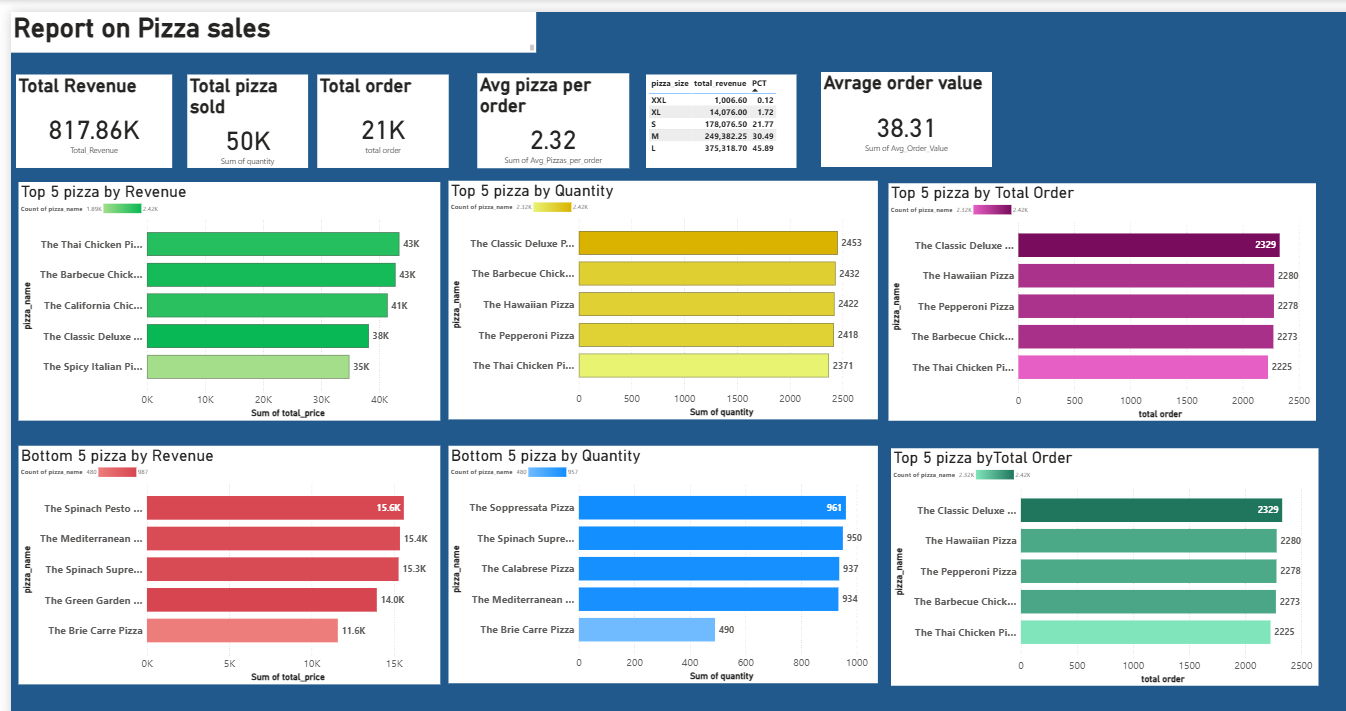

What the dashboard file says about the page in this screenshot:
{"tool":"powerbi","page":{"name":"Page 1","canvas":[3000,1500],"ordinal":0},"visuals":[{"type":"card","title":"Total Revenue","fields":{"Values":["Sum(Pizza Sales.total_price)"]},"box":[11.4,131.4,328.6,197.1],"z":0},{"type":"card","title":"Total  pizza  sold","fields":{"Values":["Sum(Pizza Sales.quantity)"]},"box":[371.4,131.4,254.3,197.1],"z":1000},{"type":"card","title":"Total order","fields":{"Values":["Pizza Sales.total order"]},"box":[645.7,131.4,277.1,197.1],"z":2000},{"type":"card","title":"Avg pizza per order","fields":{"Values":["Sum(avg pizza per order.Avg_Pizzas_per_order)"]},"box":[982.9,128.6,320,200],"z":3000},{"type":"tableEx","fields":{"Values":["pizza size total revenue pct.pizza_size","pizza size total revenue pct.total_revenue","pizza size total revenue pct.PCT"]},"box":[1337.1,131.4,317.1,197.1],"z":4000},{"type":"clusteredBarChart","title":"Bottom 5 pizza by Revenue","fields":{"Category":["Pizza Sales.pizza_name"],"Y":["Sum(Pizza Sales.total_price)"]},"box":[16,914,888,502],"z":5000},{"type":"clusteredBarChart","title":"Top  5 pizza by Revenue","fields":{"Category":["Pizza Sales.pizza_name"],"Y":["Sum(Pizza Sales.total_price)"]},"box":[16,358,888,502],"z":6000},{"type":"clusteredBarChart","title":"Top  5 pizza by Quantity","fields":{"Category":["Pizza Sales.pizza_name"],"Y":["Sum(Pizza Sales.quantity)"]},"box":[922,356,904,502],"z":7000},{"type":"clusteredBarChart","title":"Bottom 5 pizza by Quantity","fields":{"Category":["Pizza Sales.pizza_name"],"Y":["Sum(Pizza Sales.quantity)"]},"box":[922,914,904,500],"z":8000},{"type":"clusteredBarChart","title":"Top  5 pizza by Total Order ","fields":{"Category":["Pizza Sales.pizza_name"],"Y":["Pizza Sales.total order"]},"box":[1848,360,900,500],"z":9000},{"type":"clusteredBarChart","title":"Top  5 pizza byTotal Order ","fields":{"Category":["Pizza Sales.pizza_name"],"Y":["Pizza Sales.total order"]},"box":[1851.4,917.1,900,500],"z":10000},{"type":"textbox","title":"Report on Pizza sales","box":[0,0,1105.7,85.7],"z":11000},{"type":"card","title":"Avrage order value","fields":{"Values":["Sum(Avg_order_value.Avg_Order_Value)"]},"box":[1705,127.5,360,200],"z":12000}]}

Visuals, with their boxes on the page's 3000x1500 design canvas (x1, y1, x2, y2). These are canvas units, not pixel positions in the 1346x711 screenshot, which may show the page scaled, cropped or inside an application window:
"Total Revenue" card: crop(11, 131, 340, 328)
"Total  pizza  sold" card: crop(371, 131, 626, 328)
"Total order" card: crop(646, 131, 923, 328)
"Avg pizza per order" card: crop(983, 129, 1303, 329)
tableEx - pizza size total revenue pct.pizza_size x pizza size total revenue pct.total_revenue: crop(1337, 131, 1654, 328)
"Bottom 5 pizza by Revenue" clusteredBarChart: crop(16, 914, 904, 1416)
"Top  5 pizza by Revenue" clusteredBarChart: crop(16, 358, 904, 860)
"Top  5 pizza by Quantity" clusteredBarChart: crop(922, 356, 1826, 858)
"Bottom 5 pizza by Quantity" clusteredBarChart: crop(922, 914, 1826, 1414)
"Top  5 pizza by Total Order " clusteredBarChart: crop(1848, 360, 2748, 860)
"Top  5 pizza byTotal Order " clusteredBarChart: crop(1851, 917, 2751, 1417)
"Report on Pizza sales" textbox: crop(0, 0, 1106, 86)
"Avrage order value" card: crop(1705, 128, 2065, 328)
